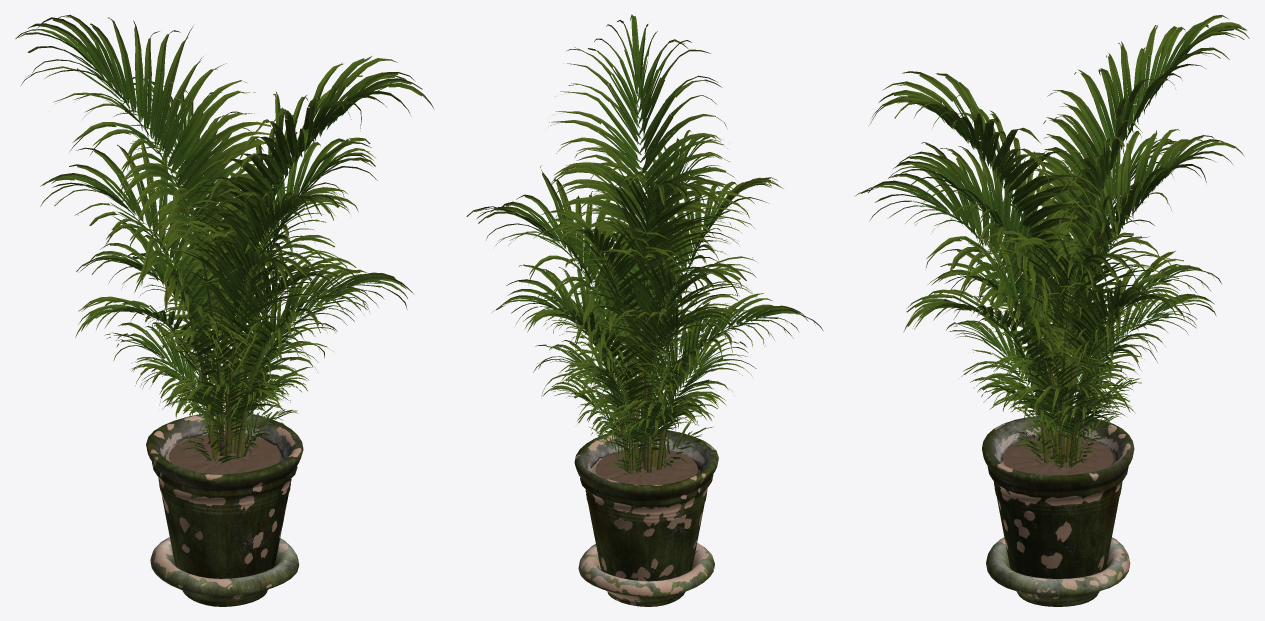
The model's file is palm-c.glb.
The picture shows the model from 3 angles, left to right: view 1: azimuth 30°, elevation 25°; view 2: azimuth 150°, elevation 25°; view 3: azimuth 270°, elevation 25°; orthographic projection. The views are drawn at different scales.
Visible parts, largest first — view 1: palm, planter, palm-b; view 2: palm, palm-b, planter; view 3: palm, palm-b, planter.
Boxes of the visible parts, box(x1,y1,x2,y2) form: palm: box(15, 14, 434, 464); planter: box(146, 412, 303, 606); palm-b: box(76, 77, 384, 453); palm: box(466, 14, 823, 473); palm-b: box(492, 130, 752, 475); planter: box(574, 429, 718, 606); palm: box(854, 15, 1249, 464); palm-b: box(888, 129, 1244, 468); planter: box(982, 416, 1134, 606).
Size of the model in its own units: 1.23 by 1.85 by 1.24.
Materials: 4 (3 with a texture image).
